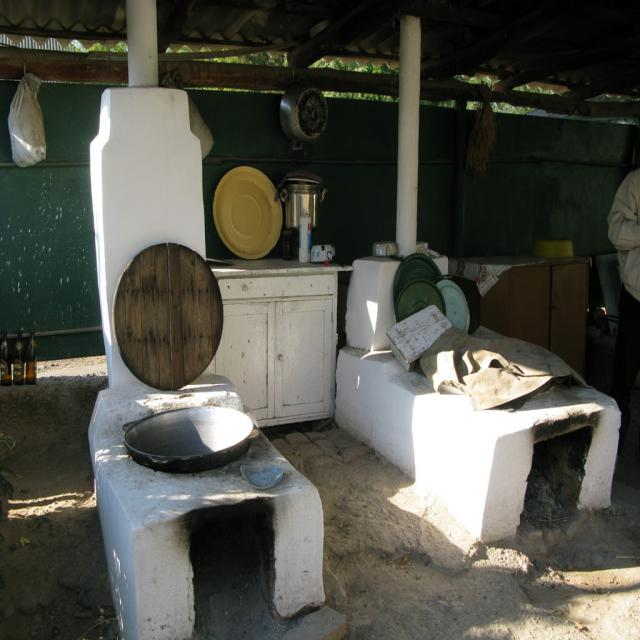desk: (205, 240, 346, 421)
person: (606, 144, 640, 469)
